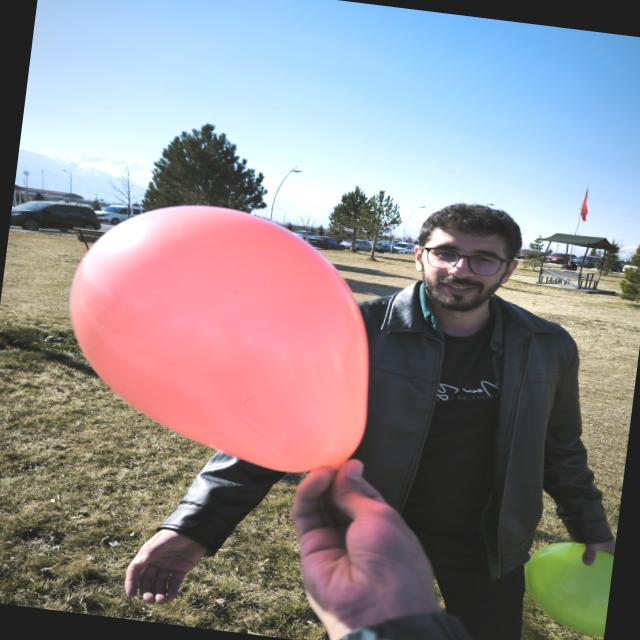balloon: (70, 206, 368, 472), (525, 542, 613, 636)
